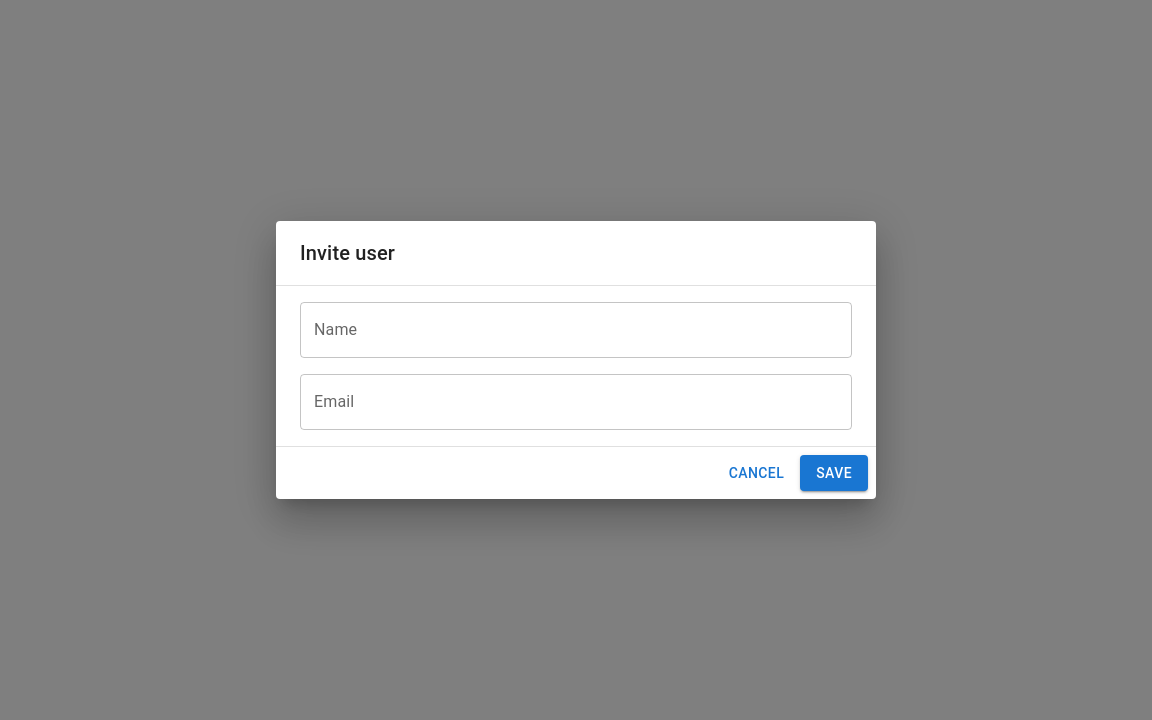
FormDialog › maps server field errors and keeps the dialog open
The width and height of the screenshot is (1152, 720).
Type "Ada" into the field labelled "Name" at (576, 330), box [300, 302, 852, 358]
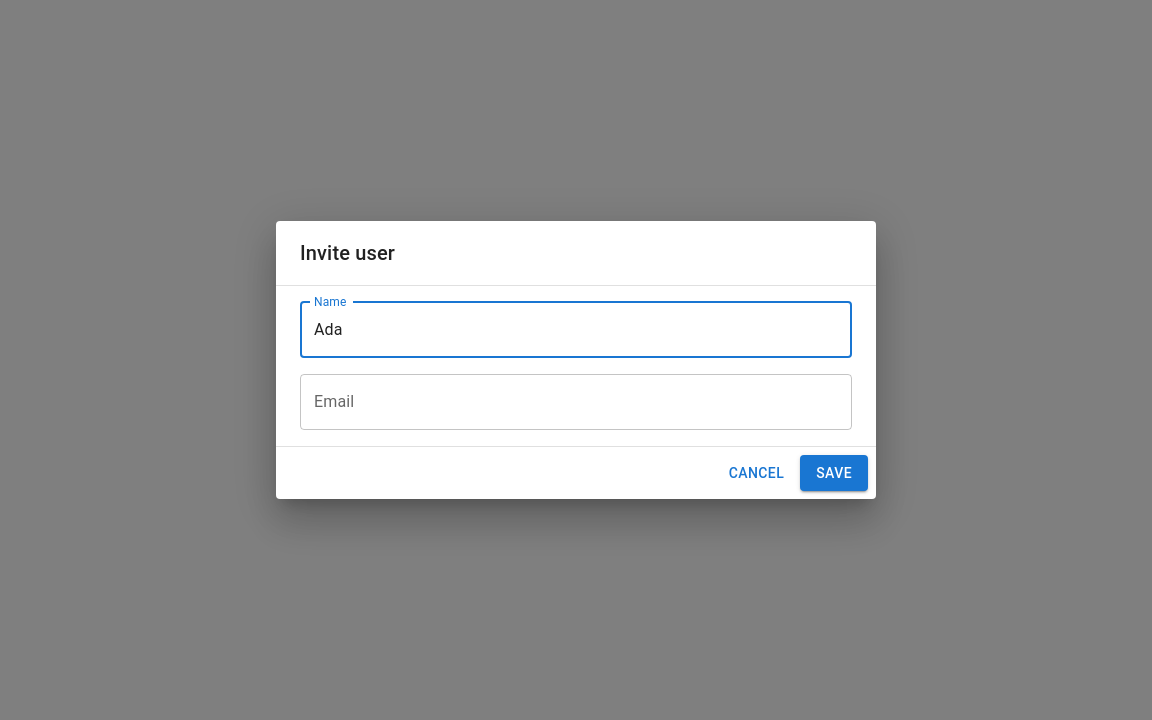
Type "ada@example.test" into the field labelled "Email" at (576, 402), box [300, 374, 852, 430]
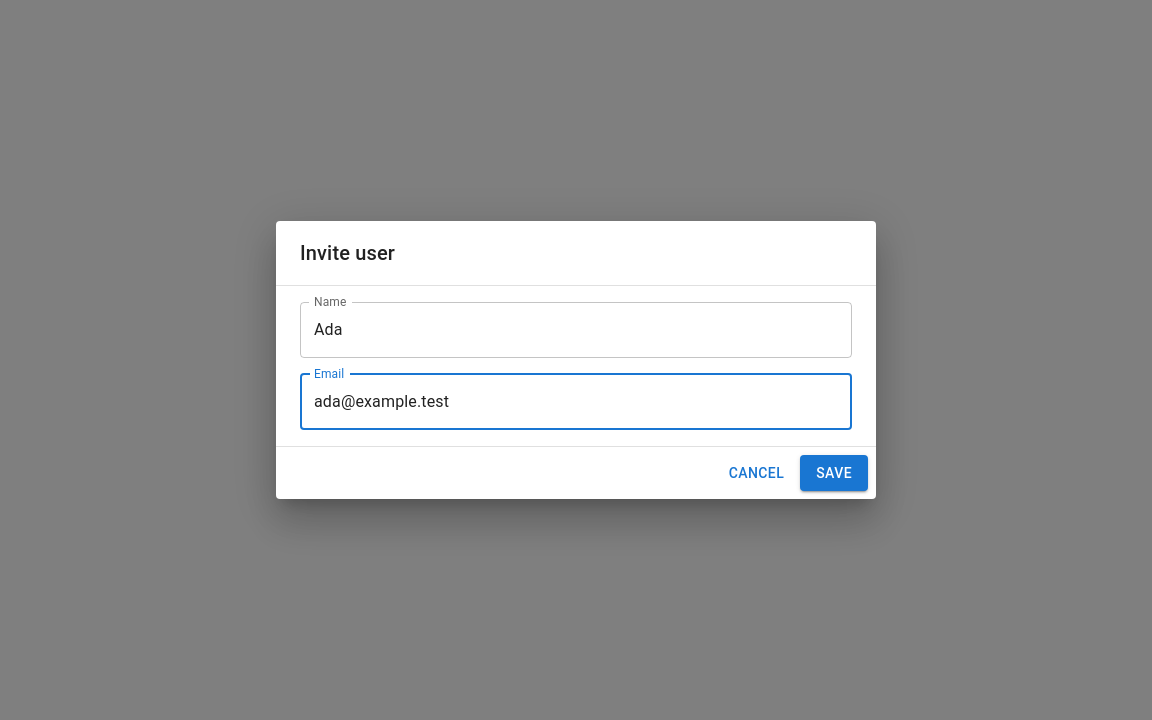
Click the button "Save" at (834, 473), box [800, 455, 868, 491]
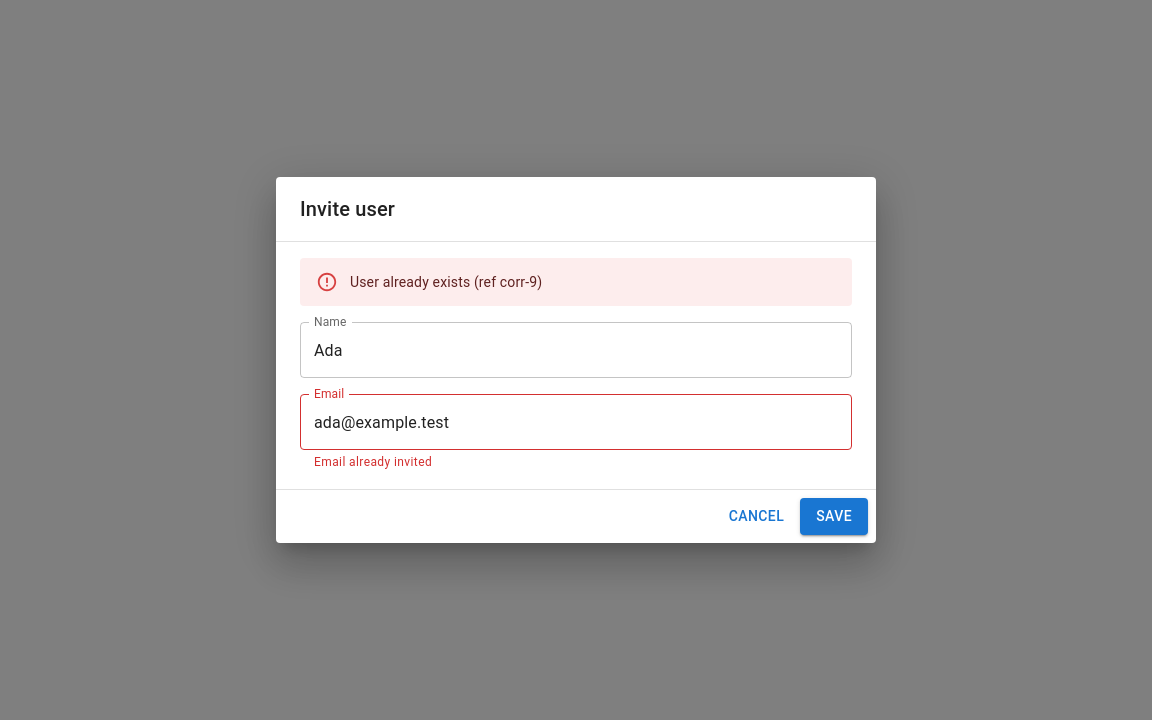
Expected: the text "Email already invited" is shown, [314, 455, 432, 469]
Expected: the text "User already exists (ref corr-9)" is shown, [350, 274, 542, 290]
